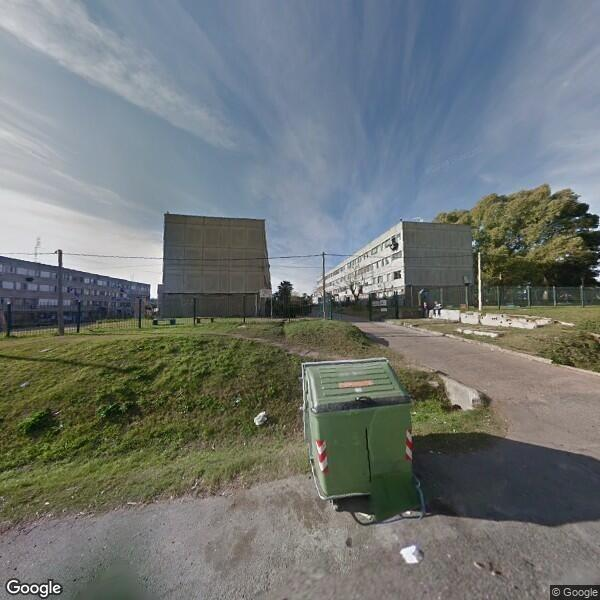Dechets: (397, 542, 430, 566), (255, 412, 267, 431)
Trash: (301, 358, 414, 507)
